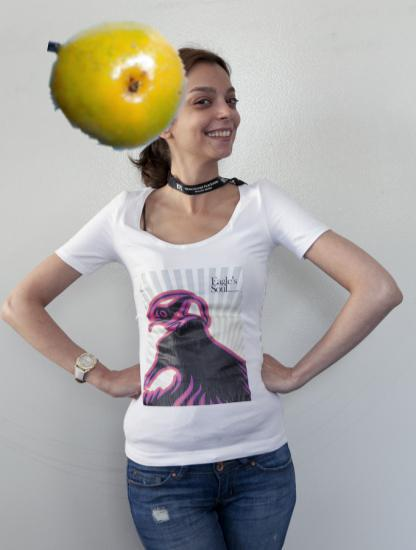Maracuja: (42, 13, 186, 157)
